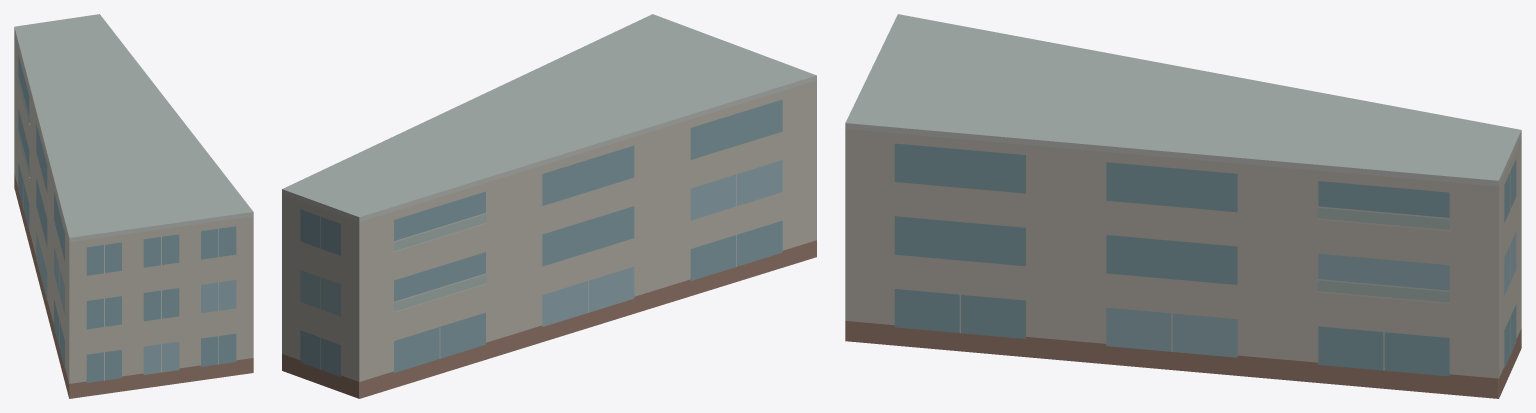
File: survey-upis-32541239.glb
The picture shows the model from 3 angles, left to right: view 1: azimuth 30°, elevation 25°; view 2: azimuth 150°, elevation 25°; view 3: azimuth 270°, elevation 25°; orthographic projection. The views are drawn at different scales.
Visible parts, largest first — view 1: survey-upis-32541239.tmp; view 2: survey-upis-32541239.tmp; view 3: survey-upis-32541239.tmp.
Boxes of the visible parts, x1,y1,x2,y2 form: survey-upis-32541239.tmp: (14, 14, 253, 398); survey-upis-32541239.tmp: (282, 14, 816, 398); survey-upis-32541239.tmp: (845, 14, 1521, 398).
Bounding box in the file's own units: 15.01 × 9.15 × 25.72.
